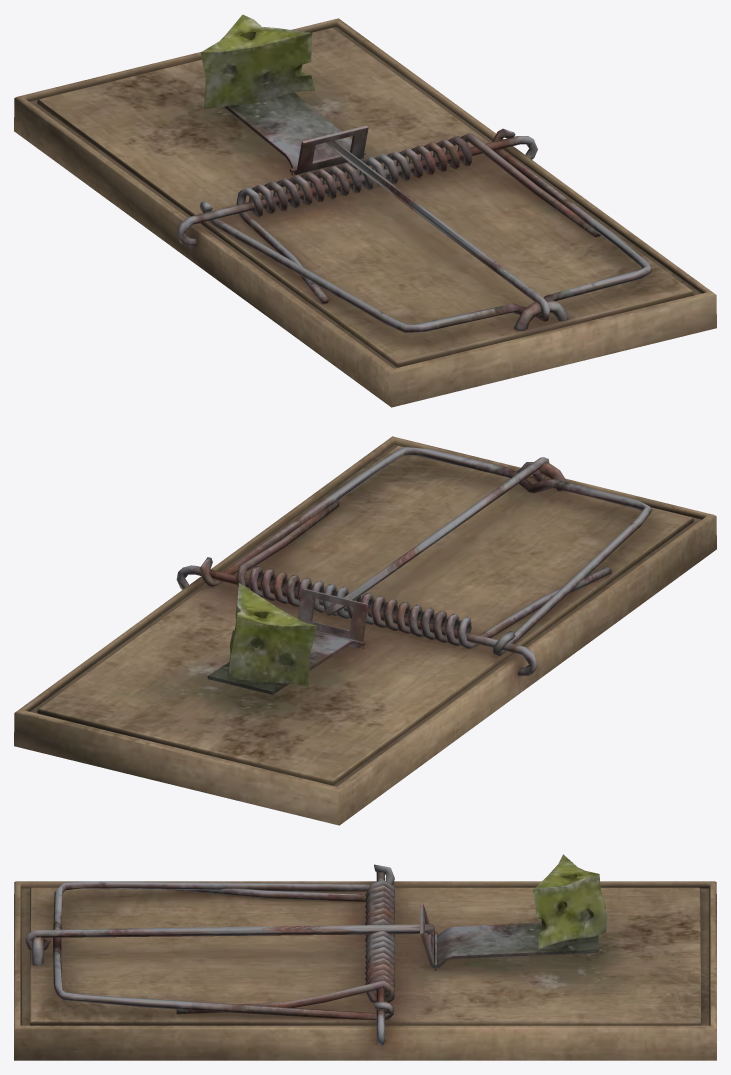
File: mousetrap.glb
3 renders of one model, top to bottom at view 1: azimuth 30°, elevation 25°; view 2: azimuth 150°, elevation 25°; view 3: azimuth 270°, elevation 25°, orthographic. The views are drawn at different scales.
Parts seen in each view (by area): view 1: mousetrap; view 2: mousetrap; view 3: mousetrap.
Boxes of the visible parts, x1,y1,x2,y2 form: mousetrap: (14, 14, 716, 407); mousetrap: (14, 436, 716, 825); mousetrap: (14, 854, 716, 1060).
Bounding box in the file's own units: 0.055 × 0.0179 × 0.1001.
1 material, 1 textured.
